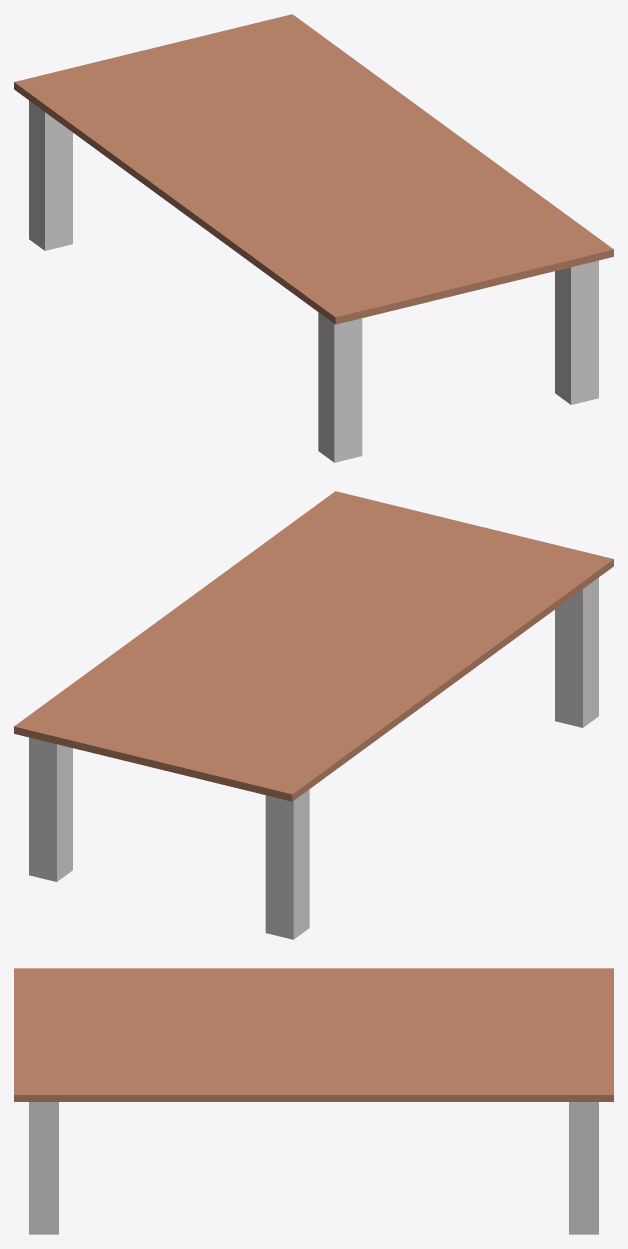
Rendered from table.glb.
The picture shows the model from 3 angles, top to bottom: view 1: azimuth 30°, elevation 25°; view 2: azimuth 150°, elevation 25°; view 3: azimuth 270°, elevation 25°; orthographic projection. The views are drawn at different scales.
Visible parts, largest first — view 1: Panel, Leg3, Leg2, Leg1; view 2: Panel, Leg1, Leg0, Leg3; view 3: Panel, Leg0, Leg2.
Boxes of the visible parts, x1=… form: Panel: x1=14, y1=14, x2=613, y2=324; Leg3: x1=318, y1=312, x2=362, y2=462; Leg2: x1=555, y1=260, x2=598, y2=404; Leg1: x1=29, y1=100, x2=72, y2=250; Panel: x1=14, y1=491, x2=613, y2=801; Leg1: x1=265, y1=789, x2=309, y2=939; Leg0: x1=29, y1=737, x2=72, y2=881; Leg3: x1=555, y1=577, x2=598, y2=727; Panel: x1=14, y1=968, x2=613, y2=1101; Leg0: x1=569, y1=1102, x2=598, y2=1234; Leg2: x1=29, y1=1102, x2=58, y2=1234.
Bounding box in the file's own units: 2 × 1.05 × 4.
